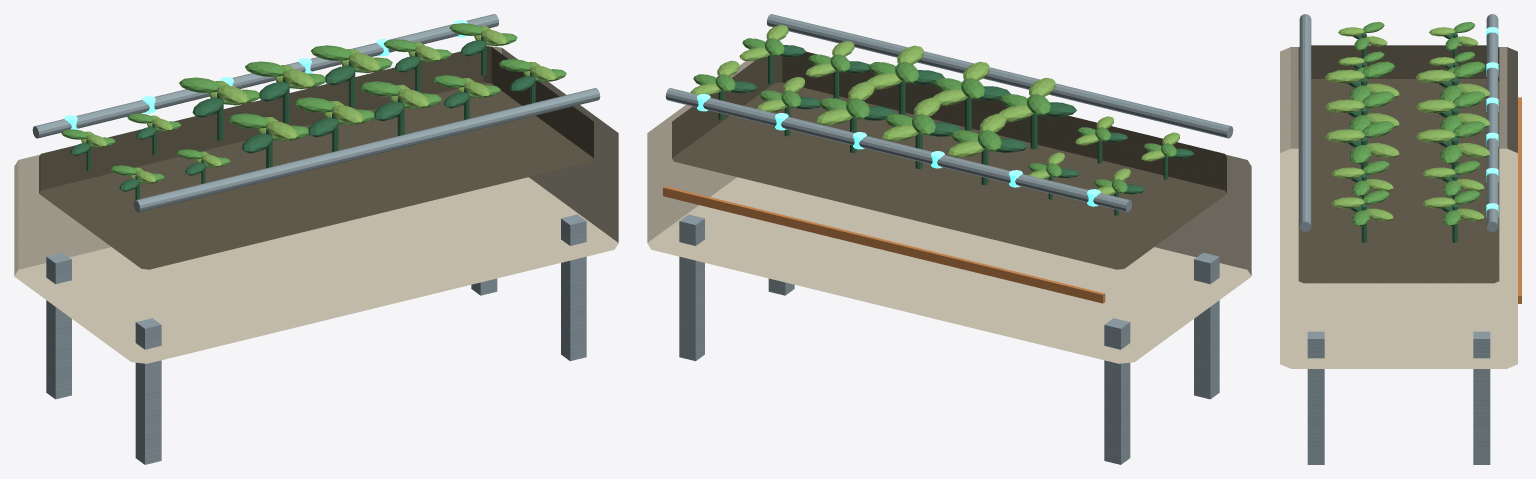
File: greenhouse_planter.glb
3 renders of one model, left to right at view 1: azimuth 30°, elevation 25°; view 2: azimuth 150°, elevation 25°; view 3: azimuth 270°, elevation 25°, orthographic. The views are drawn at different scales.
Visible parts, largest first — view 1: Planter_Box__cream, Growing_Medium__substrate, Irrigation_Pipes__alloy, Planter_Legs__alloy, Foliage__leaf1, Foliage__leaf3, Foliage__leaf2, Water_Nozzles__cyan; view 2: Planter_Box__cream, Growing_Medium__substrate, Irrigation_Pipes__alloy, Planter_Legs__alloy, Foliage__leaf2, Foliage__leaf1, Foliage__leaf3, Safety_Trim__amber, Water_Nozzles__cyan; view 3: Growing_Medium__substrate, Planter_Box__cream, Foliage__leaf2, Foliage__leaf1, Irrigation_Pipes__alloy, Planter_Legs__alloy, Foliage__leaf3, Safety_Trim__amber, Water_Nozzles__cyan.
Boxes of the visible parts, x1,y1,x2,y2 form: Planter_Box__cream: [14, 46, 618, 363]; Growing_Medium__substrate: [39, 46, 593, 269]; Irrigation_Pipes__alloy: [32, 14, 600, 212]; Planter_Legs__alloy: [46, 214, 586, 464]; Foliage__leaf1: [61, 23, 566, 183]; Foliage__leaf3: [70, 36, 535, 199]; Foliage__leaf2: [81, 26, 556, 183]; Water_Nozzles__cyan: [64, 20, 467, 129]; Planter_Box__cream: [647, 61, 1251, 363]; Growing_Medium__substrate: [672, 51, 1226, 269]; Irrigation_Pipes__alloy: [665, 14, 1233, 212]; Planter_Legs__alloy: [679, 214, 1219, 464]; Foliage__leaf2: [690, 24, 1179, 195]; Foliage__leaf1: [693, 38, 1176, 193]; Foliage__leaf3: [718, 45, 1193, 215]; Safety_Trim__amber: [663, 186, 1105, 303]; Water_Nozzles__cyan: [697, 94, 1100, 206]; Growing_Medium__substrate: [1298, 45, 1499, 283]; Planter_Box__cream: [1280, 47, 1517, 368]; Foliage__leaf2: [1324, 27, 1489, 221]; Foliage__leaf1: [1350, 22, 1485, 226]; Irrigation_Pipes__alloy: [1299, 14, 1498, 232]; Planter_Legs__alloy: [1307, 331, 1490, 464]; Foliage__leaf3: [1347, 32, 1459, 242]; Safety_Trim__amber: [1518, 97, 1521, 303]; Water_Nozzles__cyan: [1486, 27, 1498, 217].
Bounding box in the file's own units: 1.95 × 1.1 × 0.905.
8 materials, 8 textured.
